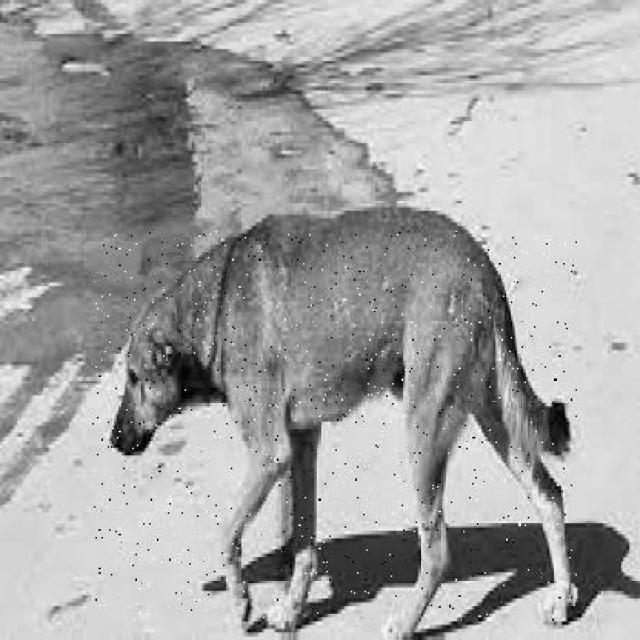Dog: (92, 230, 578, 622)
